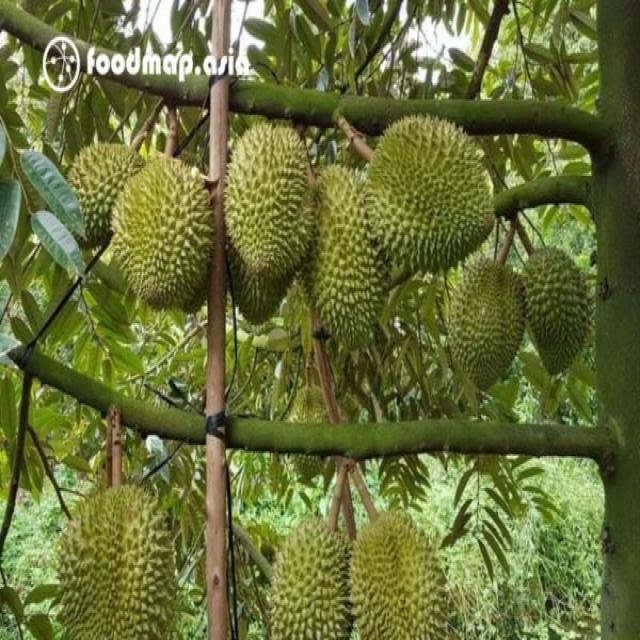Sau Rieng: (56, 481, 179, 633), (365, 119, 495, 258), (116, 153, 210, 317), (312, 168, 390, 350), (352, 510, 452, 634), (228, 128, 312, 268), (448, 256, 526, 387), (268, 516, 353, 634), (522, 246, 593, 372), (69, 141, 145, 248), (227, 234, 303, 326), (286, 382, 332, 483)
